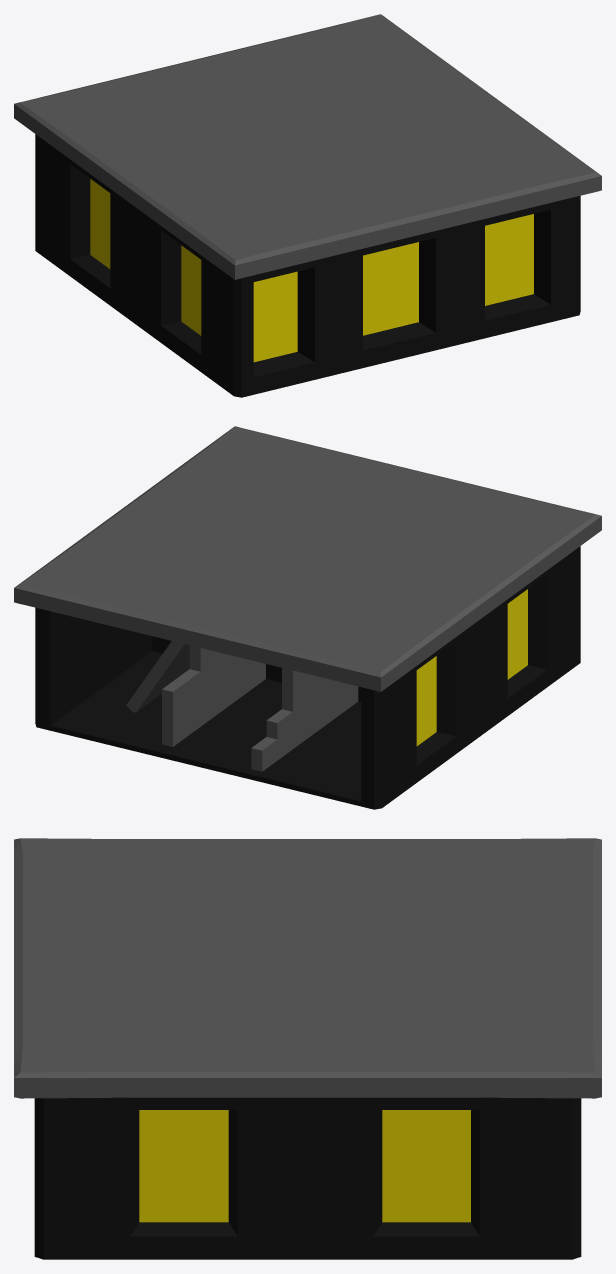
Rendered from building_03.FBX.
The picture shows the model from 3 angles, top to bottom: view 1: azimuth 30°, elevation 25°; view 2: azimuth 150°, elevation 25°; view 3: azimuth 270°, elevation 25°; orthographic projection. The views are drawn at different scales.
Parts seen in each view (by area): view 1: Object009; view 2: Object009; view 3: Object009.
Boxes of the visible parts, bbox=[...] form: Object009: bbox=[14, 14, 601, 397]; Object009: bbox=[14, 426, 601, 809]; Object009: bbox=[14, 838, 601, 1259].
Size of the model in its own units: 1330 by 498 by 1386.
